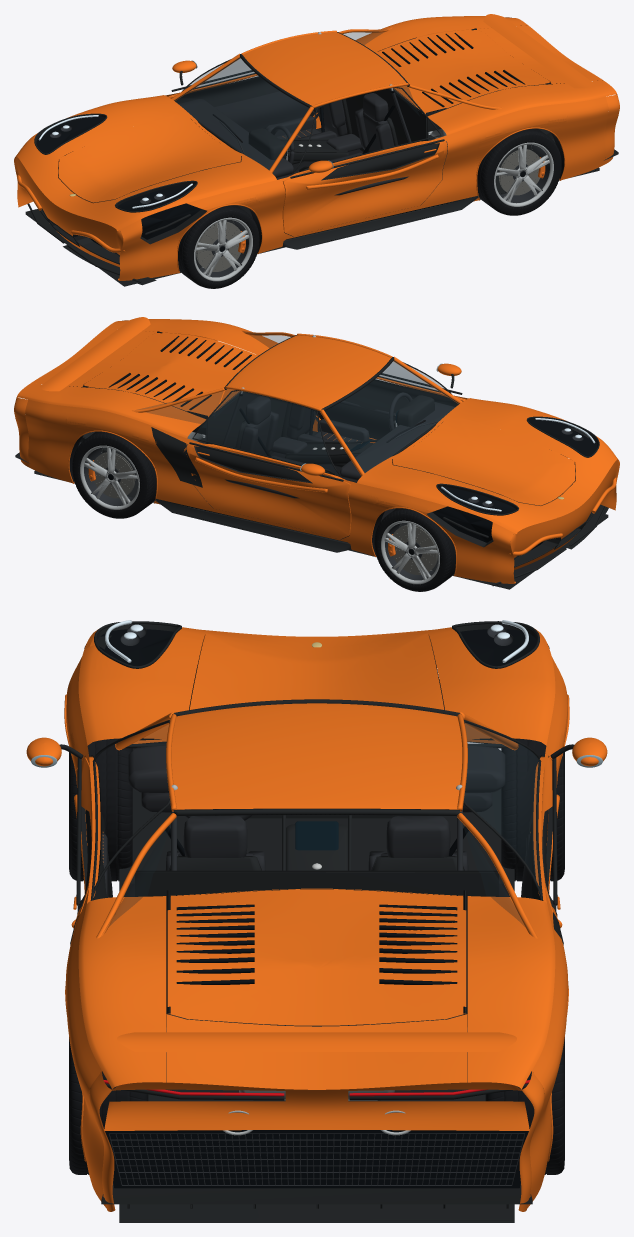
3 views of the same model, one above another, from view 1: azimuth 30°, elevation 25°; view 2: azimuth 150°, elevation 25°; view 3: azimuth 270°, elevation 25° (orthographic). The views are drawn at different scales.
Visible parts, largest first — view 1: mclaren720s_side_sculpted_skin_-1, mclaren720s_front_luggage_lid, mclaren720s_front_quarter_skin, mclaren720s_roof_storage_tonneau_skin, mclaren720s_front_windshield, mclaren720s_door_outer_skin_-1, mclaren720s_roof_panel_skin_0, mclaren720s_rear_haunch_skin_-1, mclaren720s_rear_right_tire, mclaren720s_front_right_tire, mclaren720s_side_carbon_sill_-1, mclaren720s_rear_haunch_skin_1 (+34 smaller); view 2: mclaren720s_side_sculpted_skin_1, mclaren720s_front_luggage_lid, mclaren720s_front_quarter_skin, mclaren720s_roof_storage_tonneau_skin, mclaren720s_front_windshield, mclaren720s_door_outer_skin_1, mclaren720s_roof_panel_skin_0, mclaren720s_door_side_glass_1, mclaren720s_rear_haunch_skin_1, mclaren720s_door_inner_carbon_shell_-1, mclaren720s_rear_left_tire, mclaren720s_front_left_tire (+36 smaller); view 3: mclaren720s_roof_storage_tonneau_skin, mclaren720s_roof_panel_skin_0, mclaren720s_rear_grille_shadow, mclaren720s_front_quarter_skin, mclaren720s_underfloor_carbon_pan, mclaren720s_rear_bumper_skin, mclaren720s_front_luggage_lid, mclaren720s_rear_haunch_skin_-1, mclaren720s_rear_haunch_skin_1, mclaren720s_rear_centre_deck_skin, mclaren720s_rear_engine_vent_mesh, mclaren720s_rear_firewall (+32 smaller).
Boxes of the visible parts, box(x1,y1,x2,y2) form: mclaren720s_side_sculpted_skin_-1: box(119, 96, 608, 280); mclaren720s_front_luggage_lid: box(58, 114, 241, 202); mclaren720s_front_quarter_skin: box(16, 95, 276, 230); mclaren720s_roof_storage_tonneau_skin: box(375, 29, 550, 113); mclaren720s_front_windshield: box(175, 57, 308, 169); mclaren720s_door_outer_skin_-1: box(283, 141, 447, 236); mclaren720s_roof_panel_skin_0: box(243, 32, 406, 105); mclaren720s_rear_haunch_skin_-1: box(427, 80, 616, 135); mclaren720s_rear_right_tire: box(477, 128, 561, 215); mclaren720s_front_right_tire: box(178, 205, 259, 288); mclaren720s_side_carbon_sill_-1: box(282, 195, 478, 249); mclaren720s_rear_haunch_skin_1: box(355, 16, 527, 52); mclaren720s_side_sculpted_skin_1: box(25, 399, 514, 583); mclaren720s_front_luggage_lid: box(392, 417, 575, 505); mclaren720s_front_quarter_skin: box(357, 398, 617, 533); mclaren720s_roof_storage_tonneau_skin: box(83, 332, 258, 416); mclaren720s_front_windshield: box(325, 360, 458, 472); mclaren720s_door_outer_skin_1: box(186, 444, 350, 539); mclaren720s_roof_panel_skin_0: box(227, 335, 390, 408); mclaren720s_door_side_glass_1: box(193, 391, 338, 474); mclaren720s_rear_haunch_skin_1: box(17, 383, 206, 438); mclaren720s_door_inner_carbon_shell_-1: box(318, 379, 458, 439); mclaren720s_rear_left_tire: box(72, 431, 156, 518); mclaren720s_front_left_tire: box(374, 508, 455, 591); mclaren720s_roof_storage_tonneau_skin: box(167, 889, 466, 1025); mclaren720s_roof_panel_skin_0: box(171, 703, 462, 809); mclaren720s_rear_grille_shadow: box(105, 1130, 528, 1188); mclaren720s_front_quarter_skin: box(78, 627, 555, 745); mclaren720s_underfloor_carbon_pan: box(119, 788, 514, 1222); mclaren720s_rear_bumper_skin: box(104, 1082, 529, 1130); mclaren720s_front_luggage_lid: box(189, 633, 444, 709); mclaren720s_rear_haunch_skin_-1: box(78, 896, 166, 1089); mclaren720s_rear_haunch_skin_1: box(467, 896, 555, 1089); mclaren720s_rear_centre_deck_skin: box(166, 888, 467, 1089); mclaren720s_rear_engine_vent_mesh: box(109, 1133, 524, 1185); mclaren720s_rear_firewall: box(135, 870, 498, 1026).
Bounding box in the file's own units: 4.54 × 1.2 × 2.24.
